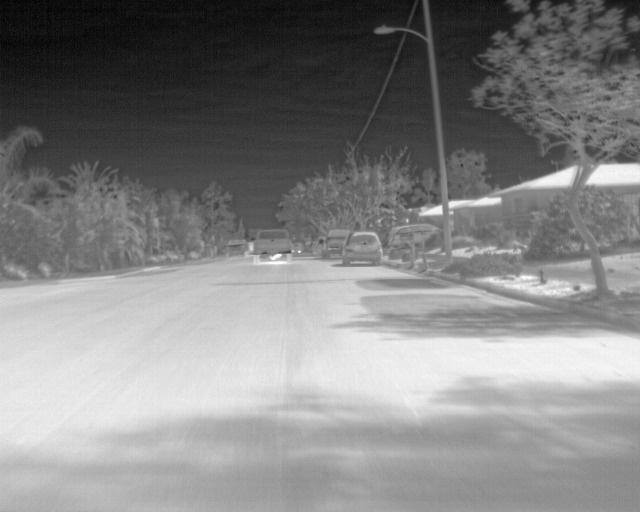car: (249, 226, 291, 263), (341, 232, 381, 266), (388, 223, 436, 246), (224, 237, 248, 258), (323, 230, 341, 257), (313, 237, 326, 256), (289, 240, 303, 253)
